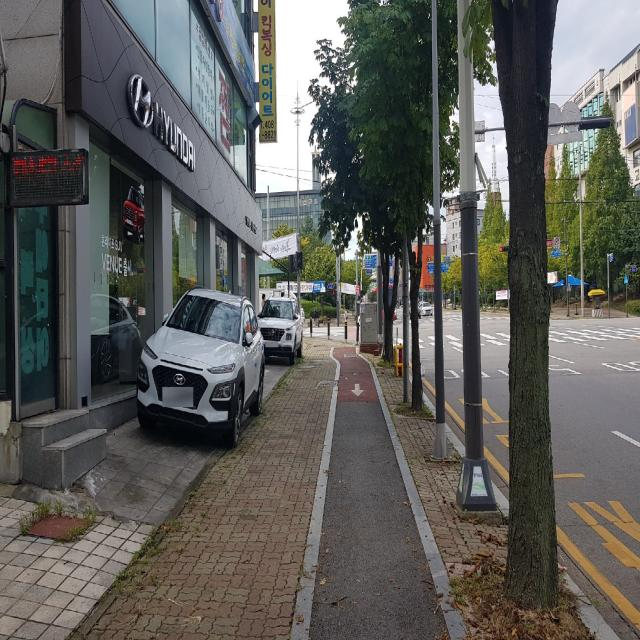횡단보도: (396, 332, 640, 348), (302, 326, 345, 338)
